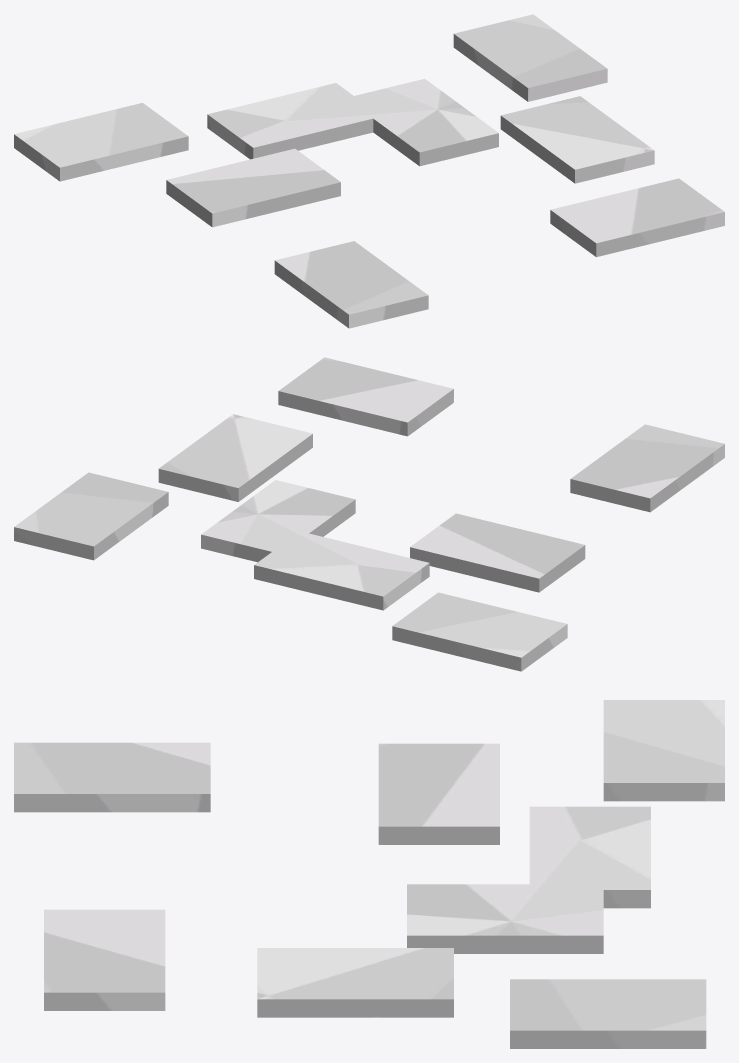
Rendered from Papers.fbx.
3 views of the same model, one above another, from view 1: azimuth 30°, elevation 25°; view 2: azimuth 150°, elevation 25°; view 3: azimuth 270°, elevation 25° (orthographic). The views are drawn at different scales.
Visible parts, largest first — view 1: detail_bricks_6, detail_bricks_8; view 2: detail_bricks_6, detail_bricks_8; view 3: detail_bricks_8, detail_bricks_6.
Part boxes in pixels (x1=…): detail_bricks_6: x1=14, y1=83, x2=724, y2=257; detail_bricks_8: x1=274, y1=14, x2=654, y2=328; detail_bricks_6: x1=254, y1=357, x2=585, y2=671; detail_bricks_8: x1=14, y1=414, x2=724, y2=562; detail_bricks_8: x1=14, y1=742, x2=706, y2=1048; detail_bricks_6: x1=44, y1=700, x2=724, y2=1010.
Size of the model in its own units: 7.73 by 0.2 by 7.02.
